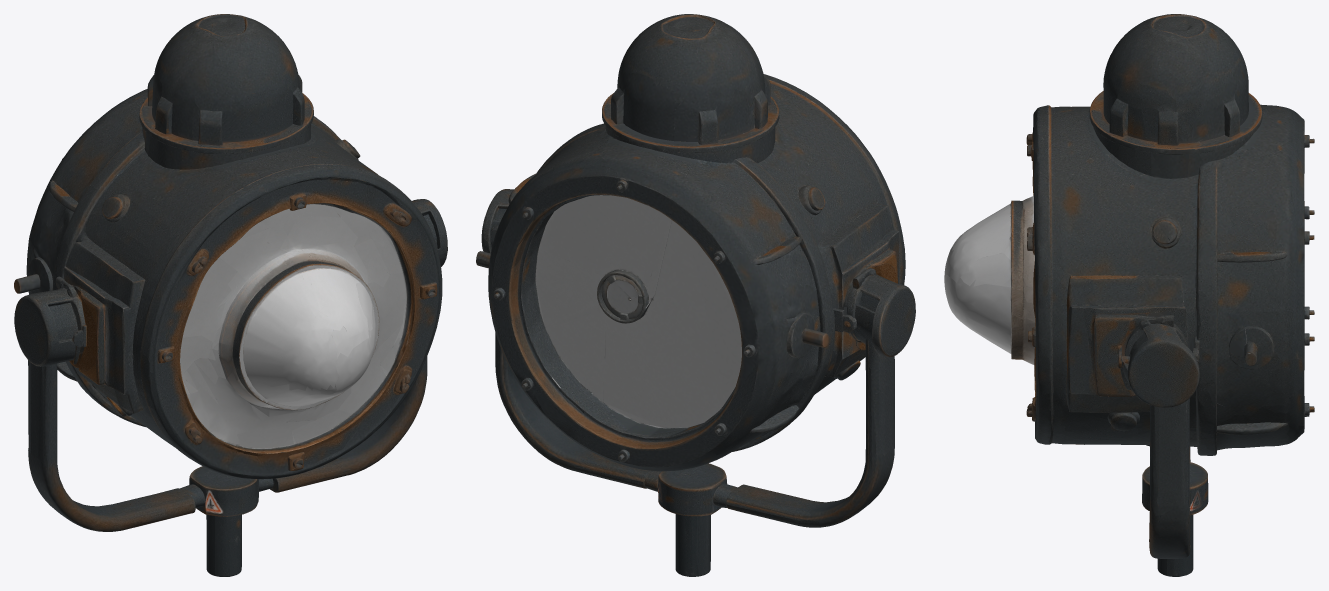
File: searchlight_bracket.glb
The picture shows the model from 3 angles, left to right: view 1: azimuth 30°, elevation 25°; view 2: azimuth 150°, elevation 25°; view 3: azimuth 270°, elevation 25°; orthographic projection.
Size of the model in its own units: 1.46 by 1.9 by 1.17.
1 material, 1 textured.
